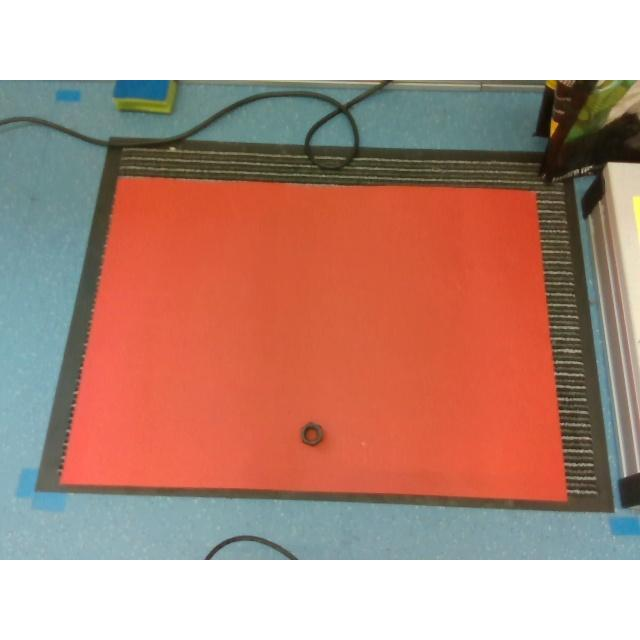M20: (300, 422, 324, 444)
